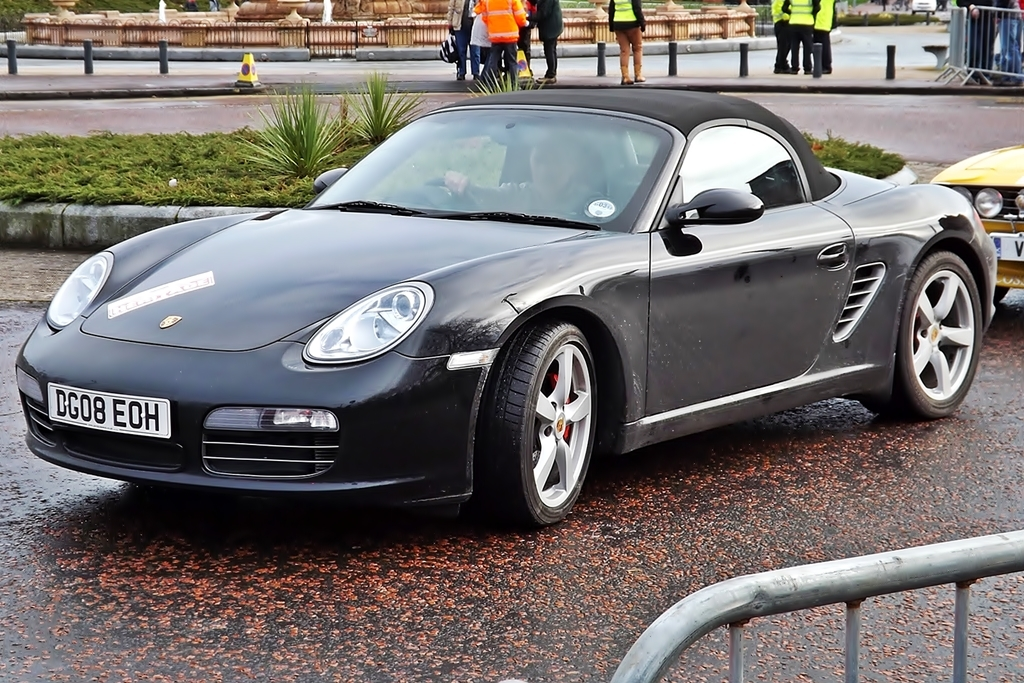face: (525, 142, 567, 182)
